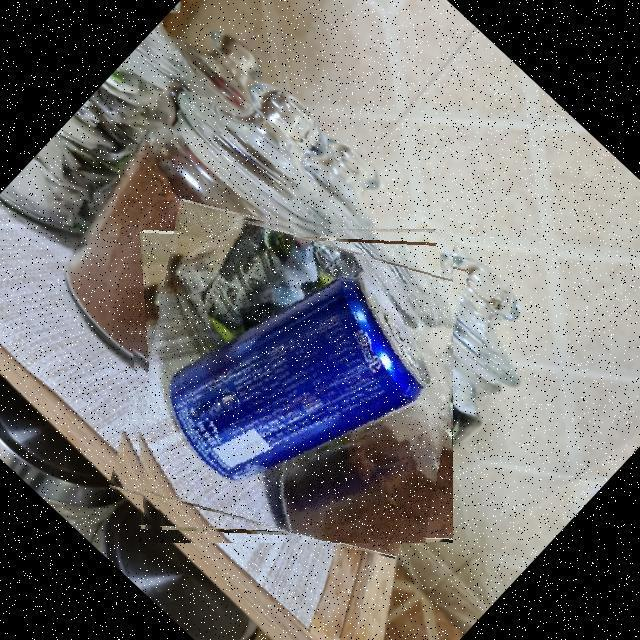recyclable: (124, 215, 453, 543)
